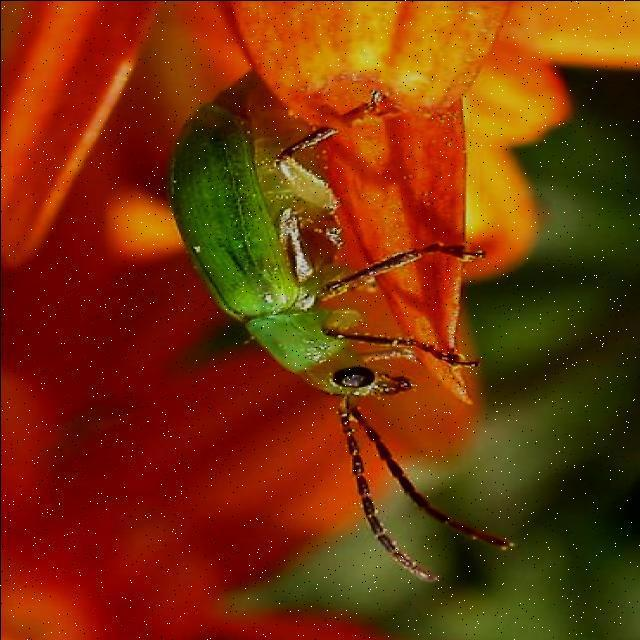gusano_gris: (170, 99, 510, 583)
